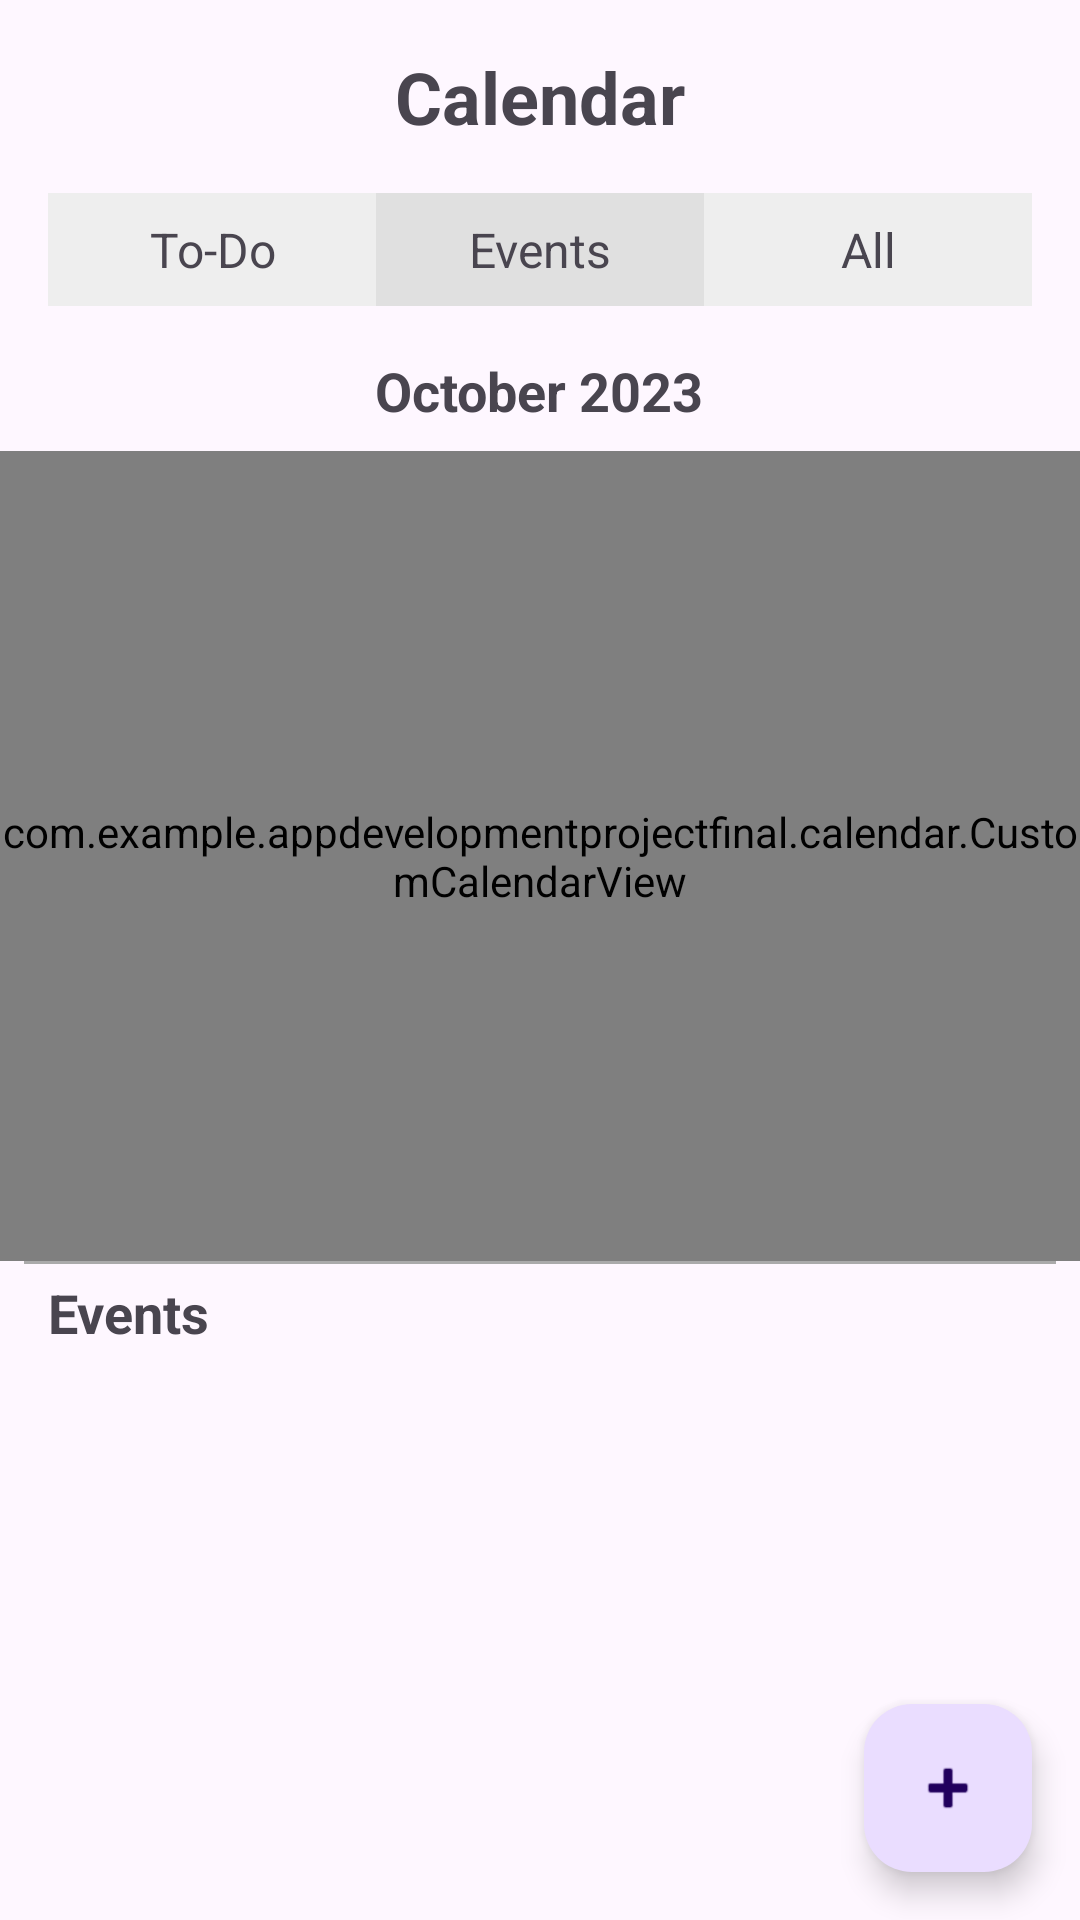

Icon bounding boxes for this 1080px x 1920px phone screenshot, format bbox=(x1, y1, x2, y2):
Add Event: bbox=(864, 1704, 1032, 1872)
